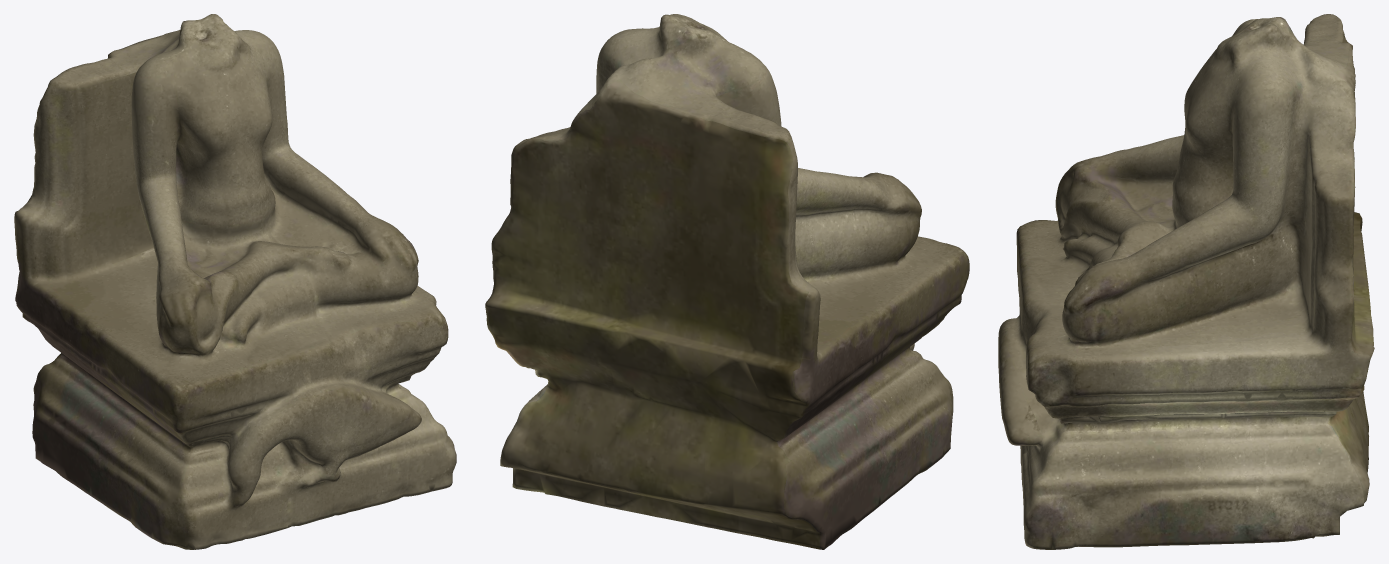
Rendered from 15_thanphuonghuong_varuna_final.glb.
3 renders of one model, left to right at view 1: azimuth 30°, elevation 25°; view 2: azimuth 150°, elevation 25°; view 3: azimuth 270°, elevation 25°, orthographic. The views are drawn at different scales.
Size of the model in its own units: 0.3681 by 0.498 by 0.3737.
1 material, 1 textured.
